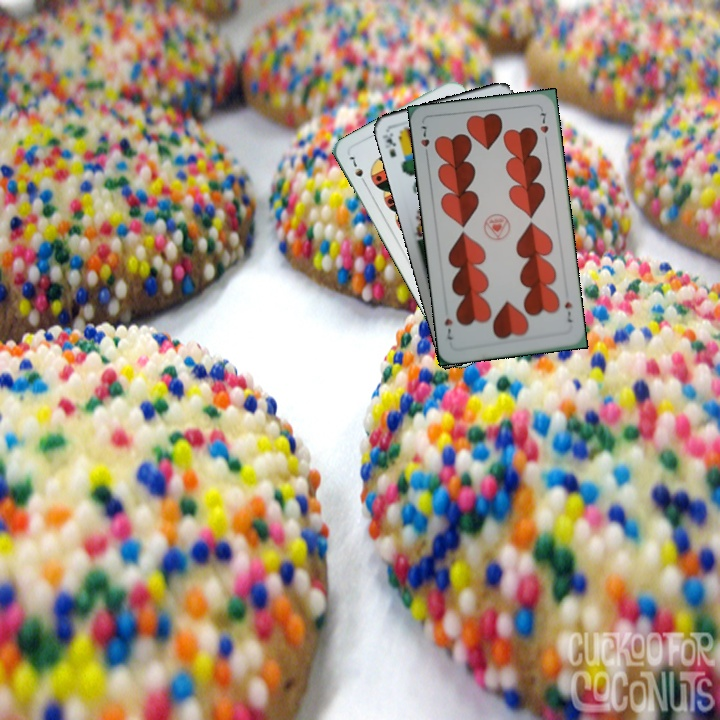EK: (379, 129, 399, 160)
H7: (416, 122, 432, 160), (561, 298, 575, 325)
S7: (344, 150, 369, 188)
